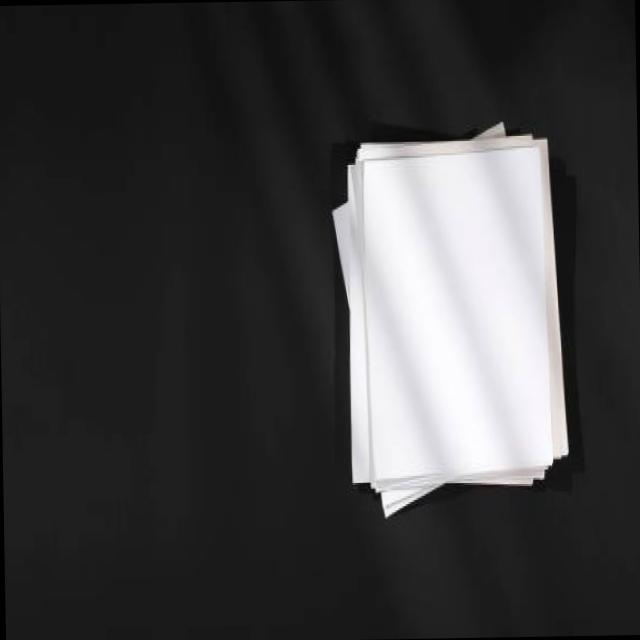electronic: (329, 122, 569, 519)
